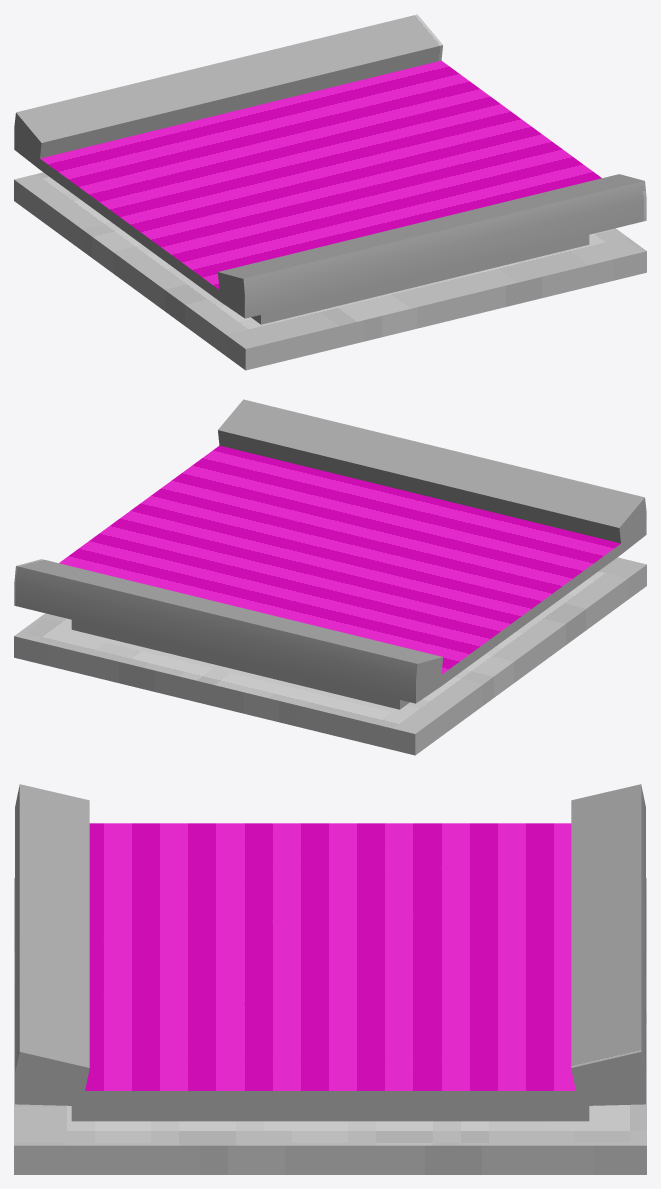
Rendered from solar_panel_creative.obj.
3 renders of one model, top to bottom at view 1: azimuth 30°, elevation 25°; view 2: azimuth 150°, elevation 25°; view 3: azimuth 270°, elevation 25°, orthographic. The views are drawn at different scales.
Parts seen in each view (by area): view 1: solarPanel; view 2: solarPanel; view 3: solarPanel.
Part boxes in pixels (x1=…): solarPanel: x1=14, y1=14, x2=646, y2=370; solarPanel: x1=14, y1=399, x2=646, y2=755; solarPanel: x1=14, y1=784, x2=646, y2=1174.
Size of the model in its own units: 1 by 0.2146 by 1.
